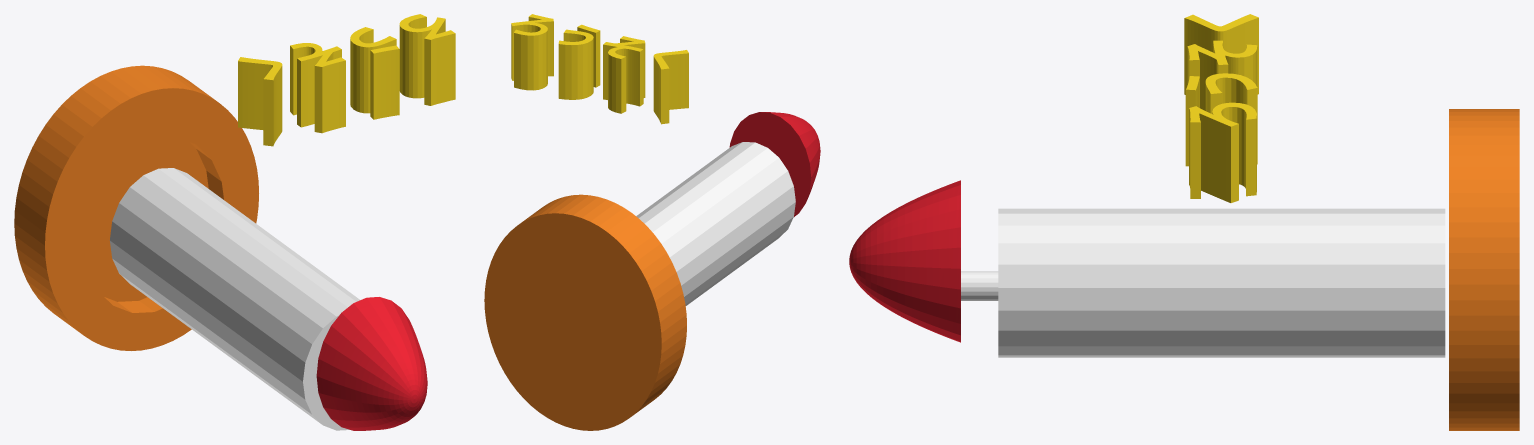
The model's file is tinker.obj.
The picture shows the model from 3 angles, left to right: view 1: azimuth 30°, elevation 25°; view 2: azimuth 150°, elevation 25°; view 3: azimuth 270°, elevation 25°; orthographic projection. The views are drawn at different scales.
Visible parts, largest first — view 1: group_0_16089887, group_0_16448250, group_0_16768282, group_0_15277357; view 2: group_0_16089887, group_0_16448250, group_0_16768282, group_0_15277357; view 3: group_0_16448250, group_0_16089887, group_0_16768282, group_0_15277357.
Part boxes in pixels (x1=…): group_0_16089887: x1=14, y1=65, x2=258, y2=350; group_0_16448250: x1=109, y1=168, x2=360, y2=430; group_0_16768282: x1=238, y1=14, x2=455, y2=146; group_0_15277357: x1=316, y1=297, x2=427, y2=430; group_0_16089887: x1=484, y1=194, x2=686, y2=430; group_0_16448250: x1=636, y1=142, x2=795, y2=305; group_0_16768282: x1=511, y1=14, x2=688, y2=124; group_0_15277357: x1=729, y1=112, x2=820, y2=216; group_0_16448250: x1=961, y1=208, x2=1445, y2=357; group_0_16089887: x1=1449, y1=109, x2=1519, y2=430; group_0_16768282: x1=1184, y1=14, x2=1258, y2=202; group_0_15277357: x1=849, y1=180, x2=960, y2=342.
Size of the model in its own units: 11 by 12 by 18.
